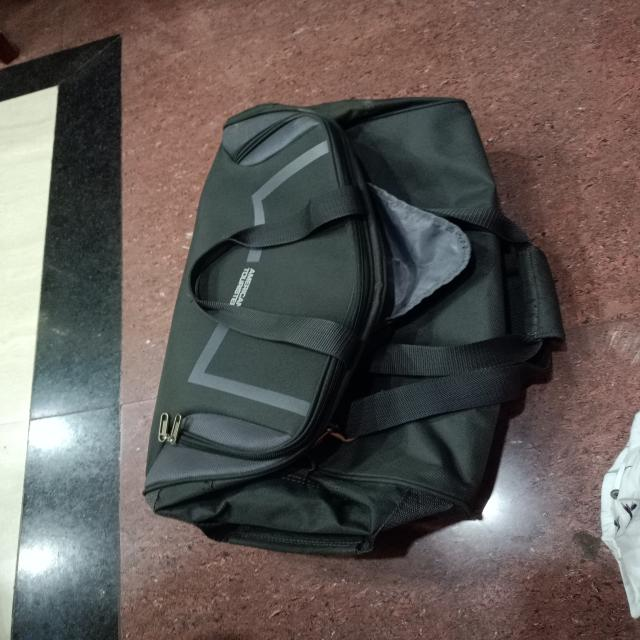suitcaserotation: (137, 92, 571, 561)
